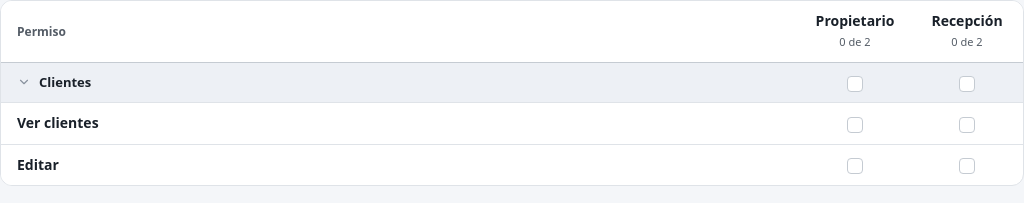
Scenario: 26 MatrizPermisos › pliega un grupo
Click the button "Clientes": (58, 82) [17,71,99,93]
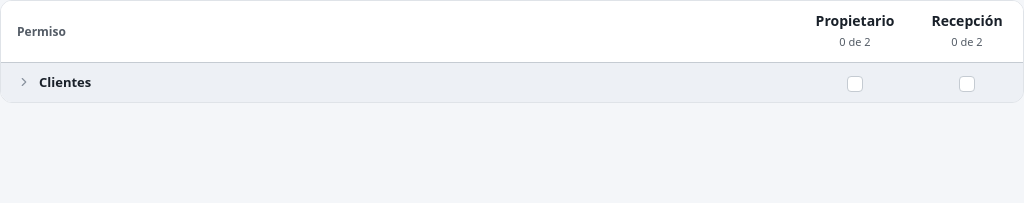
Now the text "Ver clientes" is gone
